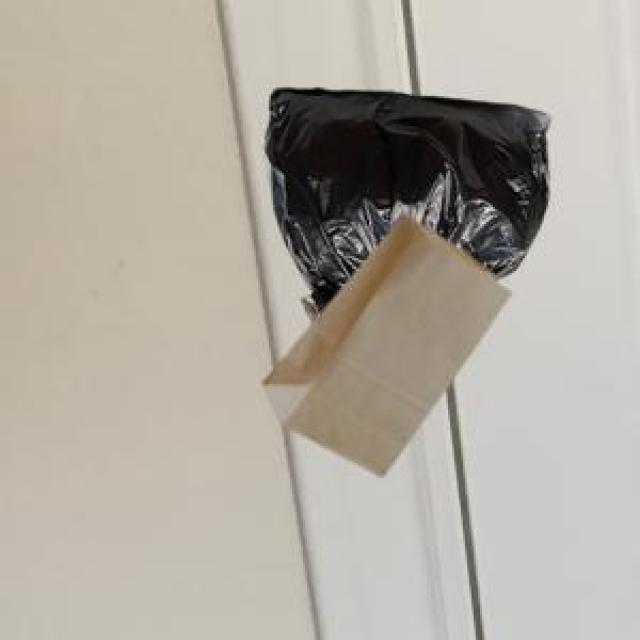miscellaneous trash: (260, 85, 546, 320)
paper: (258, 211, 506, 472)
